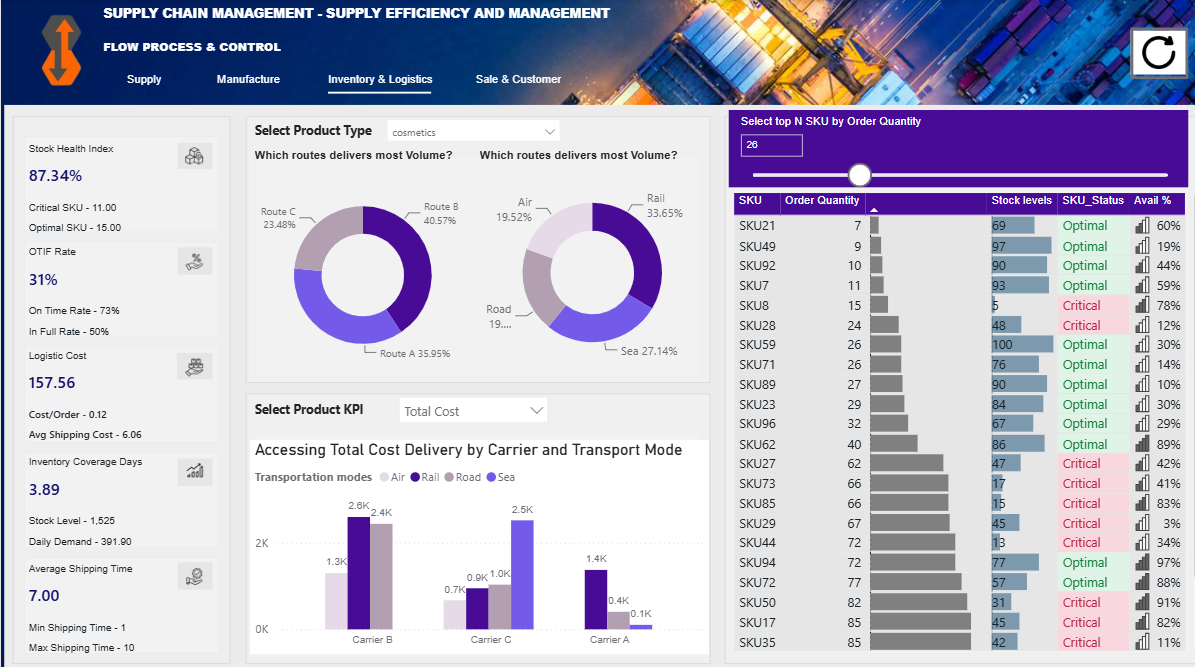

This screenshot's page, from the dashboard's own definition file:
{"tool":"powerbi","page":{"name":"Inventory & Logistic","canvas":[1280,720],"ordinal":2},"visuals":[{"type":"image","box":[1198.4,33.8,59.7,46.8],"z":0,"group":"g2"},{"type":"actionButton","box":[319.7,74.8,165.4,20.7],"z":0,"group":"g1"},{"type":"slicer","fields":{"Values":["Sheet1.Product type"]},"box":[398.7,117.3,204,41.3],"z":0},{"type":"actionButton","box":[1198.4,30.6,61.3,54.8],"z":1000,"group":"g2"},{"type":"shape","box":[347.3,94.2,109.4,10.9],"z":1000,"group":"g1"},{"type":"cardVisual","title":"Stock Health Index","fields":{"Data":["Inventory & Log- Measure.Stock Health Index"]},"box":[25.4,152.7,205.2,95.4],"z":1000},{"type":"cardVisual","title":"OTIF Rate","fields":{"Data":["Inventory & Log- Measure.OTIF Rate"]},"box":[25.4,262.5,190.9,97],"z":2000},{"type":"cardVisual","title":"Logistic Cost","fields":{"Data":["Inventory & Log- Measure.Logistics Cost"]},"box":[25.4,372.2,190.9,95.4],"z":3000},{"type":"cardVisual","title":"Inventory Coverage Days","fields":{"Data":["Inventory & Log- Measure.Inventory Coverage Days"]},"box":[25.4,485.1,205.2,97],"z":4000},{"type":"cardVisual","title":"Average Shipping Time","fields":{"Data":["Inventory & Log- Measure.Average Shipping Time"]},"box":[25.4,598.1,205.2,97],"z":5000},{"type":"donutChart","title":"Which routes delivers most Volume?","fields":{"Category":["Sheet1.Routes"],"Y":["Sum(Sheet1.Production volumes)"]},"box":[264,158.7,238.7,253.3],"z":6000},{"type":"donutChart","title":"Which routes delivers most Volume?","fields":{"Y":["Sum(Sheet1.Production volumes)"],"Category":["Sheet1.Transportation modes"]},"box":[502.7,158.7,248,248],"z":7000},{"type":"clusteredColumnChart","fields":{"Category":["Sheet1.Shipping carriers"],"Y":["Inventory & Log- Measure.Selected KPI Value"],"Series":["Sheet1.Transportation modes"]},"box":[264,467.6,486.7,227.5],"z":8000},{"type":"slicer","fields":{"Values":["KPI Selector.KPI"]},"box":[412,412,178.1,42.9],"z":9000},{"type":"textbox","box":[264,419.9,175,35],"z":10000},{"type":"tableEx","fields":{"Values":["Sheet1.SKU","Supply_Measure.Order Quantity","Inventory & Log- Measure.Qty","Inventory & Log- Measure.Stock levels","Sheet1.SKU_Status","Inventory & Log- Measure.Avail %"]},"box":[771,200.3,508.4,495.1],"z":11000},{"type":"slicer","fields":{"Values":["Parameter.Parameter"]},"box":[771,117.7,487.1,82.3],"z":12000},{"type":"textbox","box":[264,124,134.7,29.3],"z":13000},{"type":"actionButton","box":[103.4,74.8,97,19.1],"z":14000},{"type":"actionButton","box":[205.2,74.8,114.5,20.7],"z":15000},{"type":"actionButton","box":[466,74.8,165.4,20.7],"z":16000},{"type":"group","id":"g1","title":"Group 1","box":[319.7,74.8,165.4,30.3],"z":17000},{"type":"group","id":"g2","title":"Group 2","box":[1198.4,30.6,61.3,54.8],"z":18000},{"type":"image","box":[38.2,14.3,52.5,79.5],"z":19000},{"type":"textbox","box":[103.4,0,574.2,39.8],"z":20000},{"type":"textbox","box":[103.4,35,574.2,39.8],"z":21000}]}

Visuals, with their boxes in screenshot pixels (x1, y1, x2, y2), scaled from the page's 1280x720 canvas onto the 1195x667 screenshot:
image: (1119, 31, 1175, 75)
actionButton: (298, 69, 453, 88)
slicer - Sheet1.Product type: (372, 109, 563, 147)
actionButton: (1119, 28, 1176, 79)
shape: (324, 87, 426, 97)
"Stock Health Index" cardVisual: (24, 141, 215, 230)
"OTIF Rate" cardVisual: (24, 243, 202, 333)
"Logistic Cost" cardVisual: (24, 345, 202, 433)
"Inventory Coverage Days" cardVisual: (24, 449, 215, 539)
"Average Shipping Time" cardVisual: (24, 554, 215, 644)
"Which routes delivers most Volume?" donutChart: (246, 147, 469, 382)
"Which routes delivers most Volume?" donutChart: (469, 147, 701, 377)
clusteredColumnChart - Sheet1.Shipping carriers x Inventory & Log- Measure.Selected KPI Value: (246, 433, 701, 644)
slicer - KPI Selector.KPI: (385, 382, 551, 421)
textbox: (246, 389, 410, 421)
tableEx - Sheet1.SKU x Supply_Measure.Order Quantity: (720, 186, 1194, 644)
slicer - Parameter.Parameter: (720, 109, 1175, 185)
textbox: (246, 115, 372, 142)
actionButton: (97, 69, 187, 87)
actionButton: (192, 69, 298, 88)
actionButton: (435, 69, 589, 88)
"Group 1" group: (298, 69, 453, 97)
"Group 2" group: (1119, 28, 1176, 79)
image: (36, 13, 85, 87)
textbox: (97, 0, 633, 37)
textbox: (97, 32, 633, 69)
